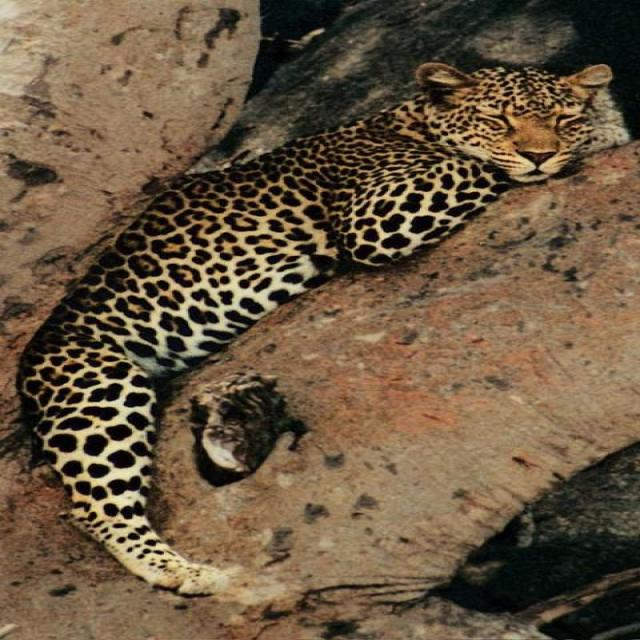Leopard: (21, 60, 614, 595)
